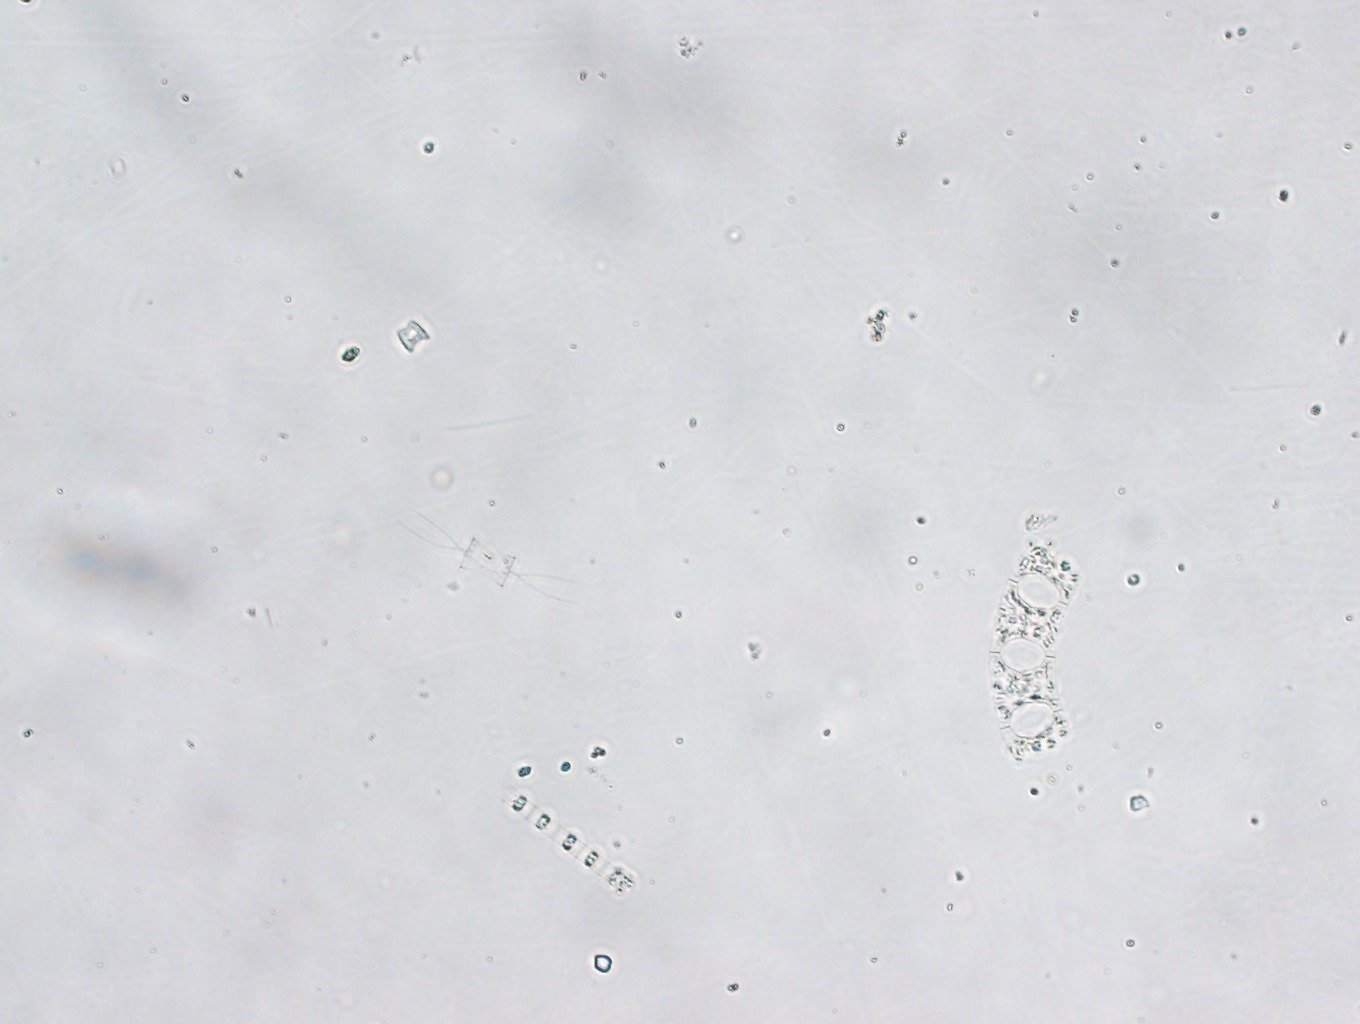chaetoceros: (390, 509, 592, 611)
eucampia: (976, 532, 1096, 779)
skeletonema: (502, 790, 639, 905)
